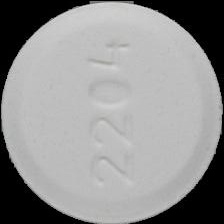0093-2204: (0, 0, 224, 224)
